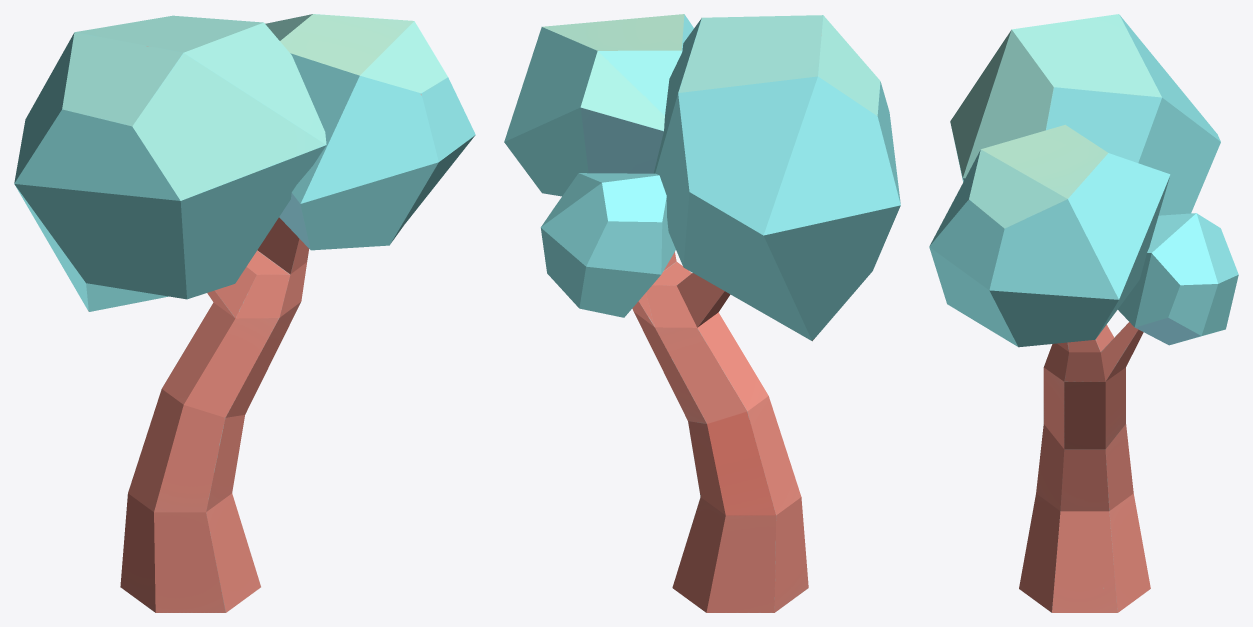
Rendered from arvore-copa.fbx.
3 views of the same model, side by side, from view 1: azimuth 30°, elevation 25°; view 2: azimuth 150°, elevation 25°; view 3: azimuth 270°, elevation 25° (orthographic). The views are drawn at different scales.
Parts seen in each view (by area): view 1: arvore-copa; view 2: arvore-copa; view 3: arvore-copa.
Part boxes in pixels (left/top/right/bottom): arvore-copa: left=14, top=14, right=475, bottom=612; arvore-copa: left=504, top=14, right=900, bottom=612; arvore-copa: left=929, top=14, right=1238, bottom=612.
Bounding box in the file's own units: 652 × 884 × 461.
1 material, 1 textured.
